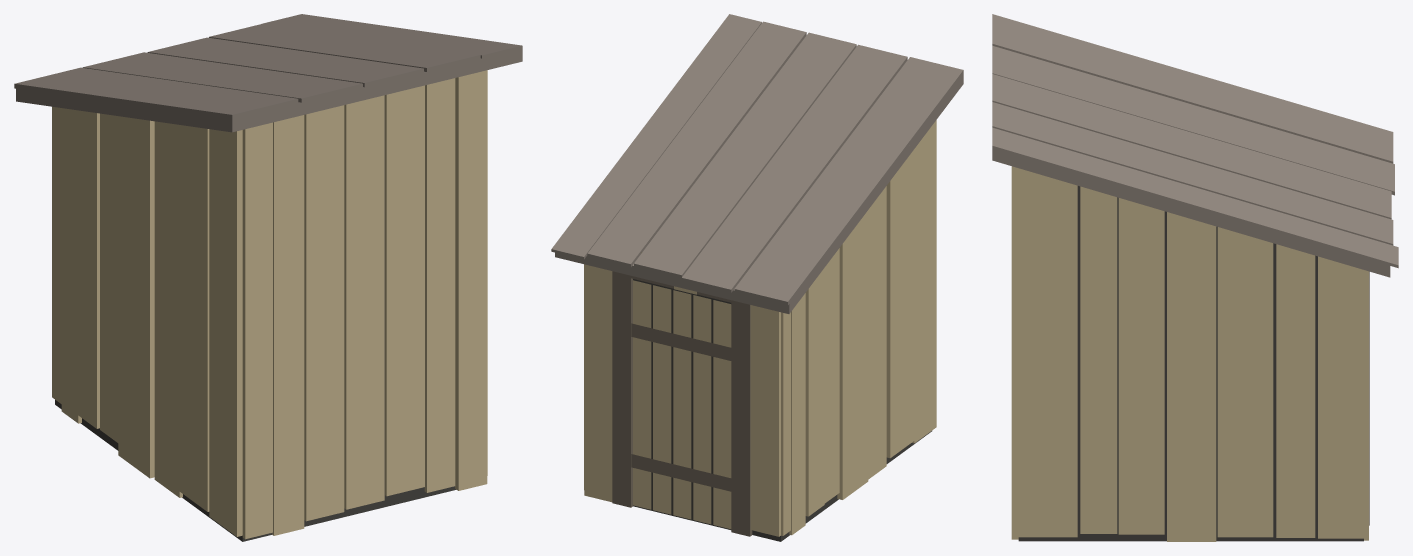
The model's file is recon_1835_blk_randolph_dearborn_a3_09__inferred_1835.glb.
The picture shows the model from 3 angles, left to right: view 1: azimuth 30°, elevation 25°; view 2: azimuth 150°, elevation 25°; view 3: azimuth 270°, elevation 25°; orthographic projection. The views are drawn at different scales.
Visible parts, largest first — view 1: recon_1835_blk_randolph_dearborn_a3_09__inferred_1835; view 2: recon_1835_blk_randolph_dearborn_a3_09__inferred_1835; view 3: recon_1835_blk_randolph_dearborn_a3_09__inferred_1835.
Boxes of the visible parts, left/top/right/bottom form: recon_1835_blk_randolph_dearborn_a3_09__inferred_1835: left=14, top=14, right=522, bottom=541; recon_1835_blk_randolph_dearborn_a3_09__inferred_1835: left=551, top=14, right=963, bottom=541; recon_1835_blk_randolph_dearborn_a3_09__inferred_1835: left=992, top=14, right=1398, bottom=541.
Size of the model in its own units: 2.01 by 2.93 by 2.64.
